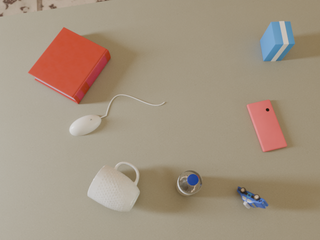book: (28, 27, 110, 104)
bottle: (176, 170, 202, 196)
box: (260, 21, 295, 61)
cup: (88, 162, 140, 212)
mouse: (70, 115, 101, 136)
phone: (247, 100, 287, 152)
toy_car: (237, 187, 268, 209)
